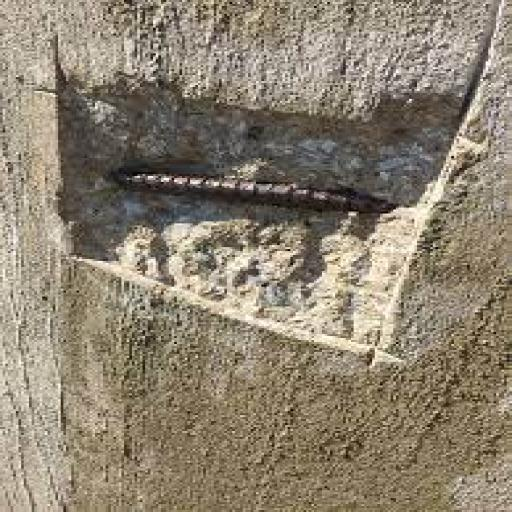spalling: (66, 89, 480, 358)
